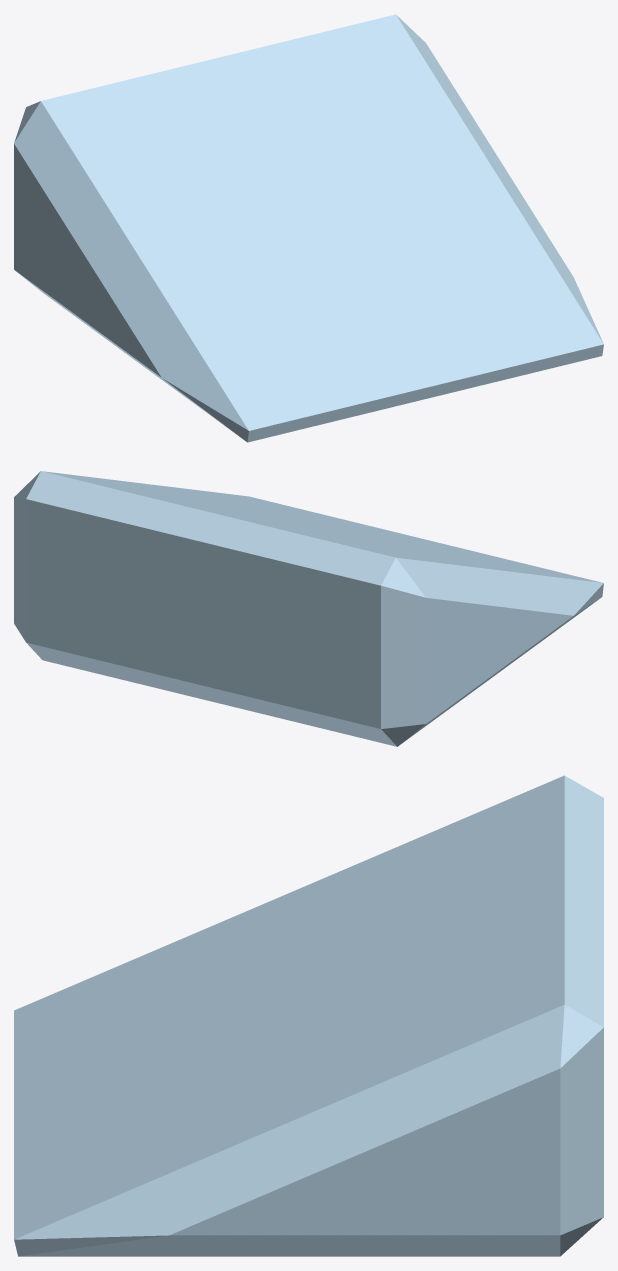
File: R4B_HalfWedge.glb
3 views of the same model, one above another, from view 1: azimuth 30°, elevation 25°; view 2: azimuth 150°, elevation 25°; view 3: azimuth 270°, elevation 25° (orthographic). The views are drawn at different scales.
Visible parts, largest first — view 1: R4B_HalfWedge; view 2: R4B_HalfWedge; view 3: R4B_HalfWedge.
Part boxes in pixels (x1,y1,x2,y2): R4B_HalfWedge: (14,14,603,442); R4B_HalfWedge: (14,471,603,746); R4B_HalfWedge: (14,775,603,1256).
Bounding box in the file's own units: 0.52 × 0.2297 × 0.4874.
